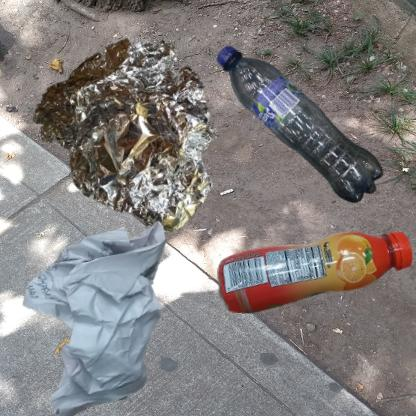aluminio: (10, 10, 259, 256)
botella: (213, 10, 416, 272), (213, 213, 416, 336)
papel: (10, 213, 206, 416)
